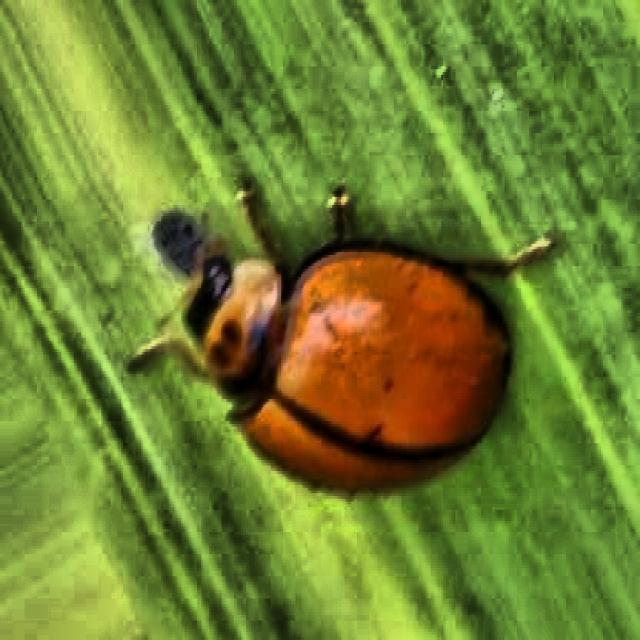Ladybug: (100, 128, 547, 526)
